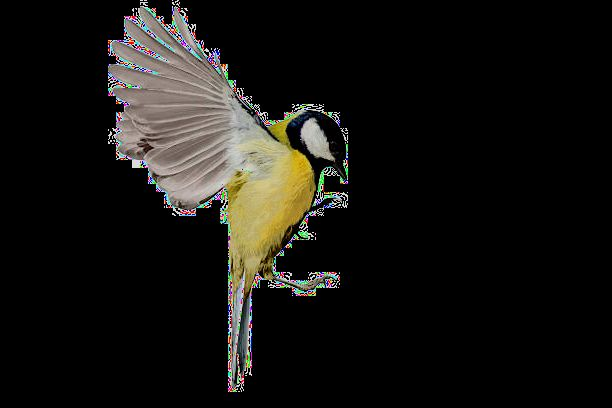Bird: (98, 2, 351, 399)
